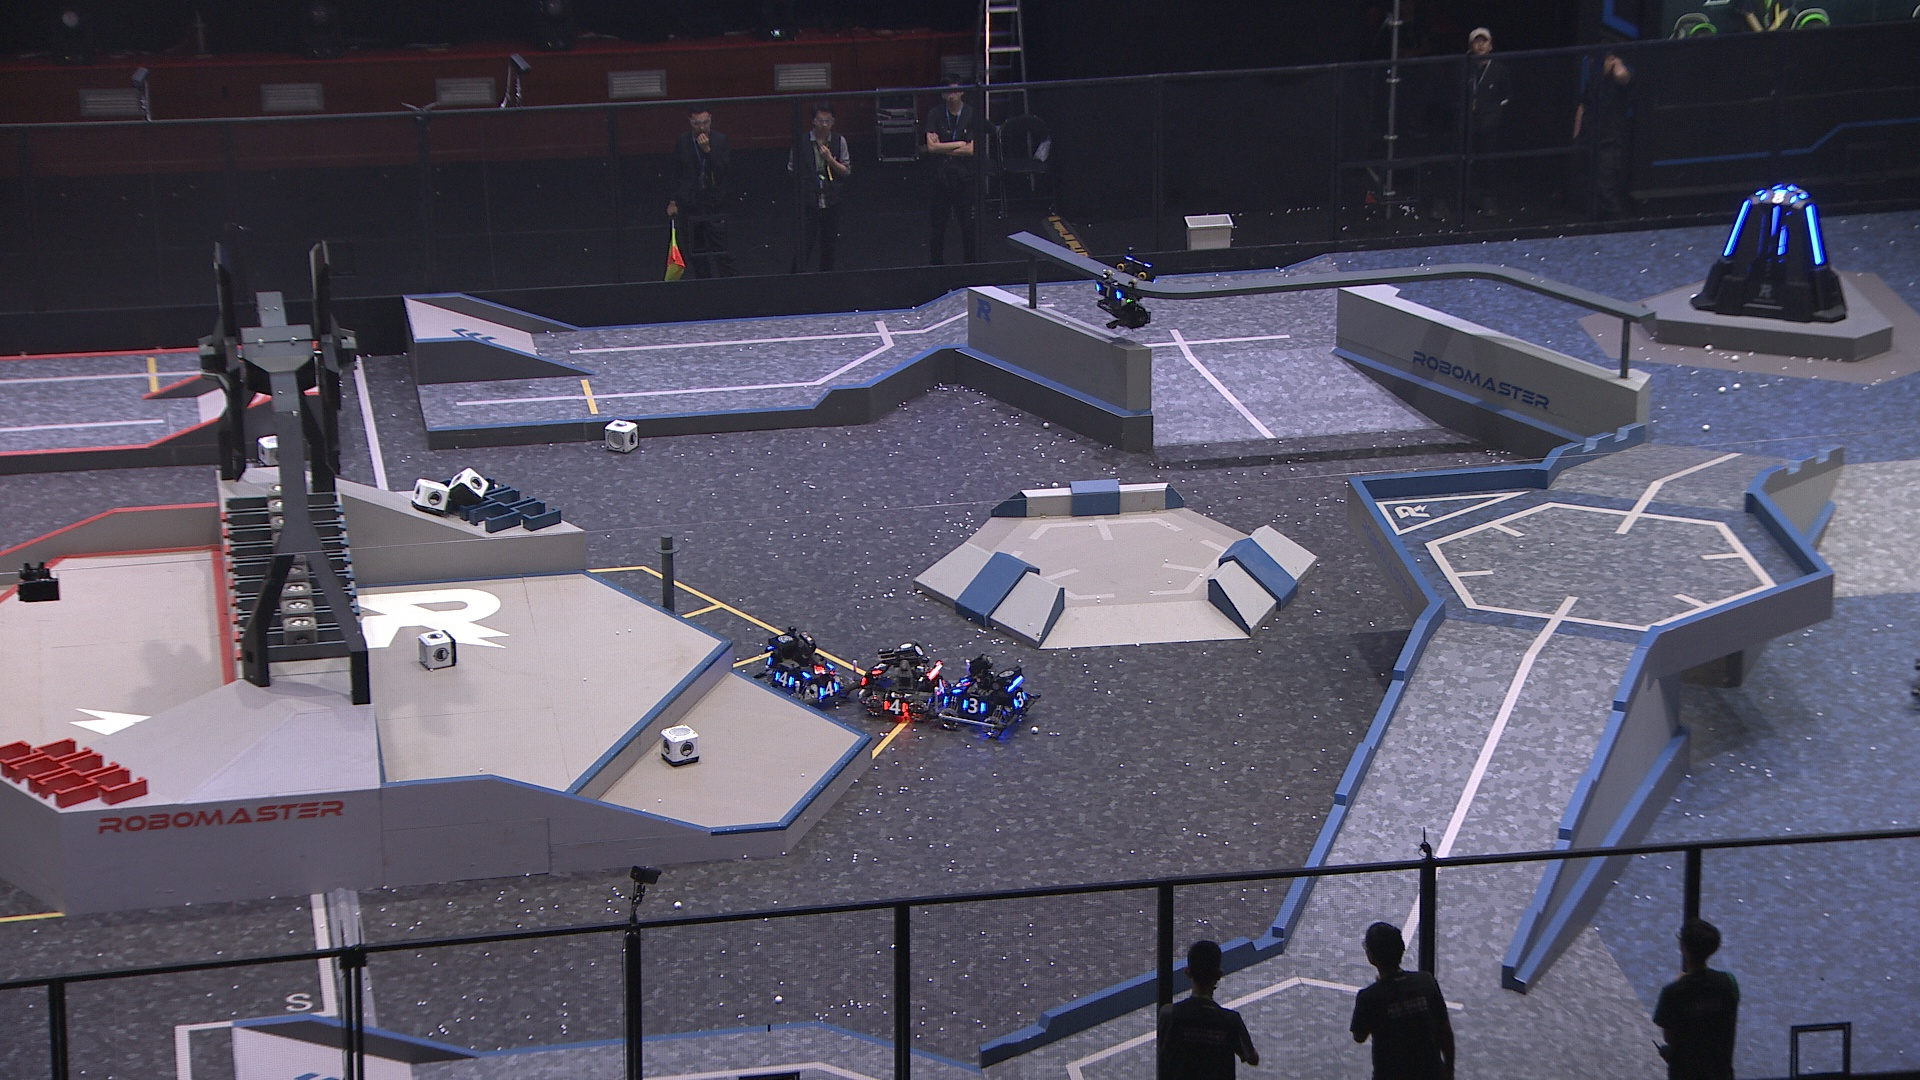armor: (1722, 199, 1750, 257), (1803, 202, 1822, 264), (1759, 187, 1799, 204), (1093, 281, 1125, 301), (880, 699, 909, 717), (963, 698, 986, 716), (931, 675, 949, 698), (818, 679, 840, 698), (870, 655, 887, 679), (804, 665, 832, 679), (1768, 204, 1780, 237), (773, 671, 796, 687), (1011, 690, 1029, 711), (951, 676, 969, 695)
base: (1691, 182, 1849, 324)
car: (855, 641, 951, 731), (938, 647, 1039, 731), (756, 632, 847, 713), (844, 636, 865, 644)
watcher: (1091, 244, 1158, 330)
